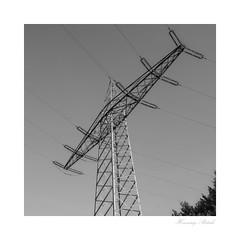power_tower: (46, 28, 208, 220)
